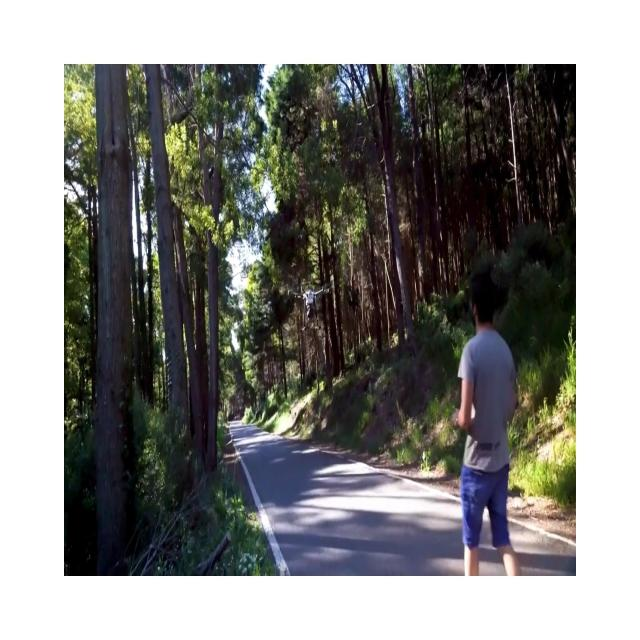drone: (288, 280, 332, 320)
